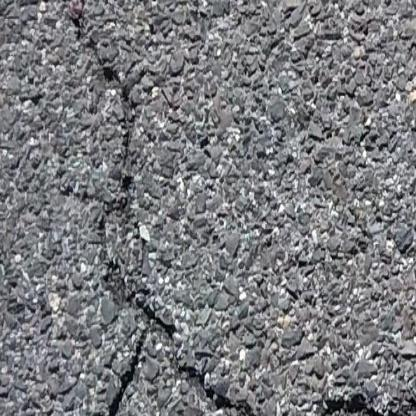Cracks: (72, 193, 181, 416), (65, 13, 137, 170), (181, 365, 265, 416), (307, 391, 416, 416)
